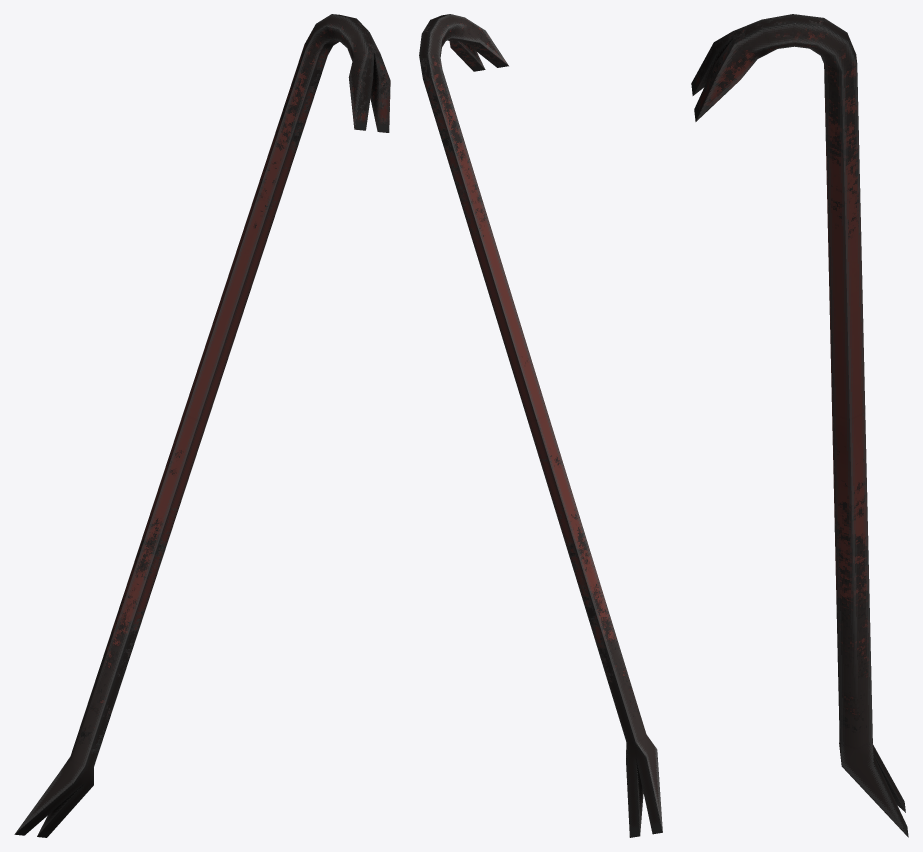
Rendered from crowbar_v2.glb.
3 views of the same model, side by side, from view 1: azimuth 30°, elevation 25°; view 2: azimuth 150°, elevation 25°; view 3: azimuth 270°, elevation 25° (orthographic). The views are drawn at different scales.
Visible parts, largest first — view 1: Crowbar; view 2: Crowbar; view 3: Crowbar.
Boxes of the visible parts, <box> form: Crowbar: <box>14,14,390,837</box>; Crowbar: <box>419,14,662,837</box>; Crowbar: <box>691,14,908,837</box>.
Bounding box in the file's own units: 0.645 × 1.63 × 0.3282.
Materials: 1 (1 with a texture image).
